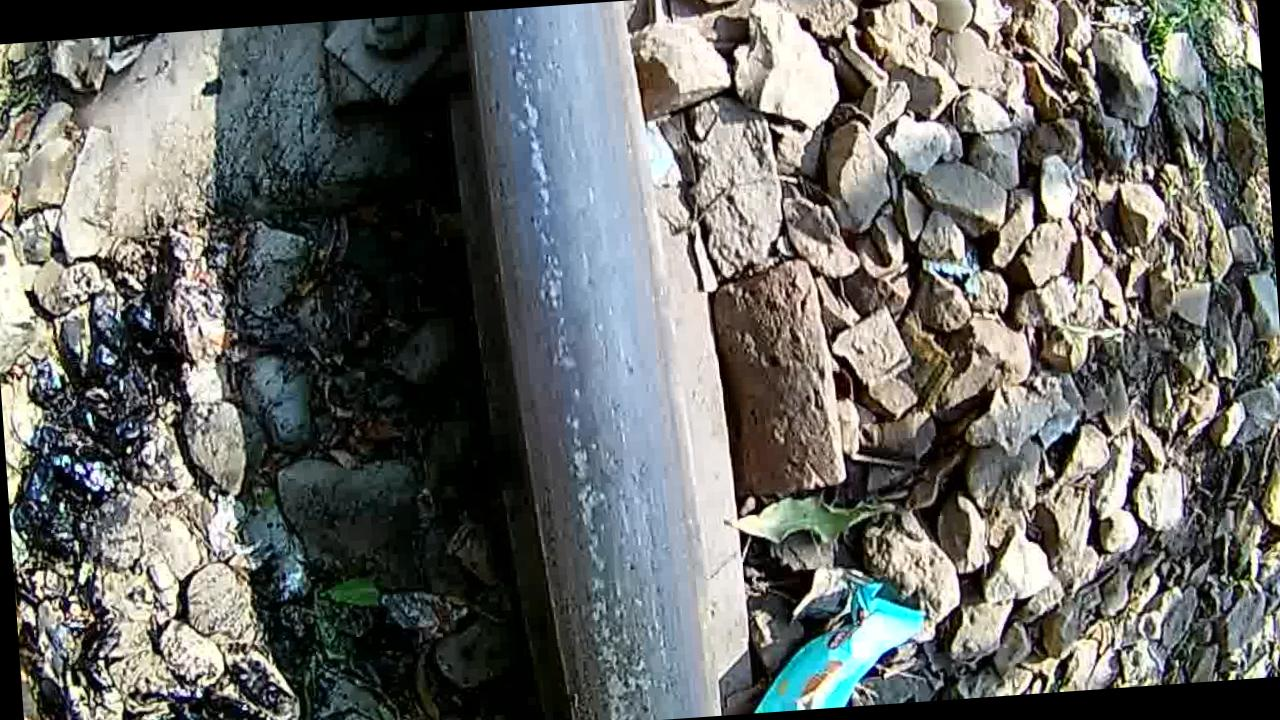clip_missing: (459, 0, 714, 720)
